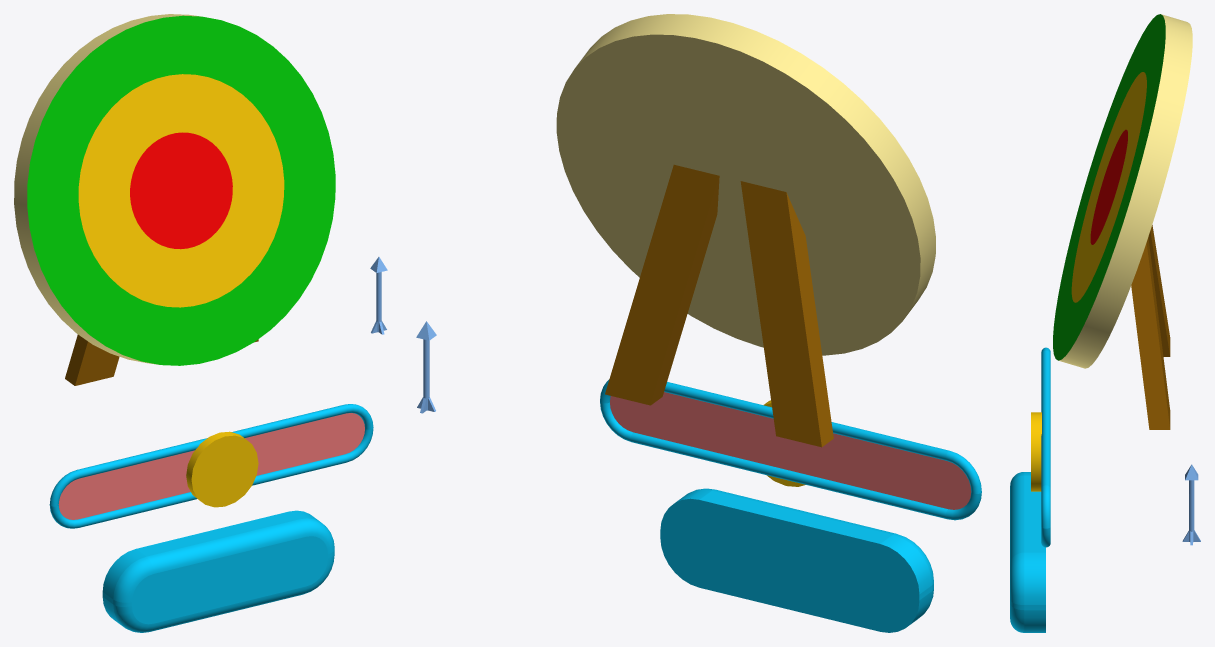
File: glidingdeer_unity_test_3d_assets_bullseye.FBX
3 renders of one model, left to right at view 1: azimuth 30°, elevation 25°; view 2: azimuth 150°, elevation 25°; view 3: azimuth 270°, elevation 25°, orthographic. The views are drawn at different scales.
Visible parts, largest first — view 1: Cylinder001, button, bar, dot, arrow; view 2: Cylinder001, button, bar, arrow; view 3: Cylinder001, button, bar, dot, arrow.
Part boxes in pixels (x1=…): Cylinder001: x1=14, y1=14, x2=335, y2=385; button: x1=102, y1=510, x2=334, y2=632; bar: x1=49, y1=404, x2=373, y2=528; dot: x1=186, y1=431, x2=258, y2=507; arrow: x1=370, y1=257, x2=387, y2=334; Cylinder001: x1=556, y1=14, x2=935, y2=447; button: x1=660, y1=488, x2=933, y2=632; bar: x1=600, y1=379, x2=981, y2=520; arrow: x1=416, y1=321, x2=436, y2=413; Cylinder001: x1=1053, y1=14, x2=1192, y2=429; button: x1=1010, y1=472, x2=1045, y2=632; bar: x1=1041, y1=347, x2=1050, y2=547; dot: x1=1031, y1=412, x2=1041, y2=491; arrow: x1=1182, y1=464, x2=1200, y2=545.
Bounding box in the file's own units: 88.89 × 113 × 35.02.
